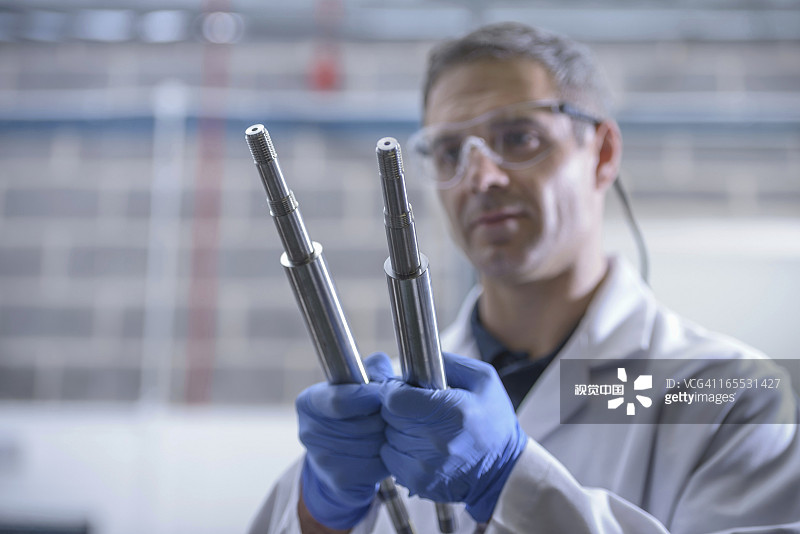no-phone: (377, 343, 520, 524), (282, 334, 401, 527)
